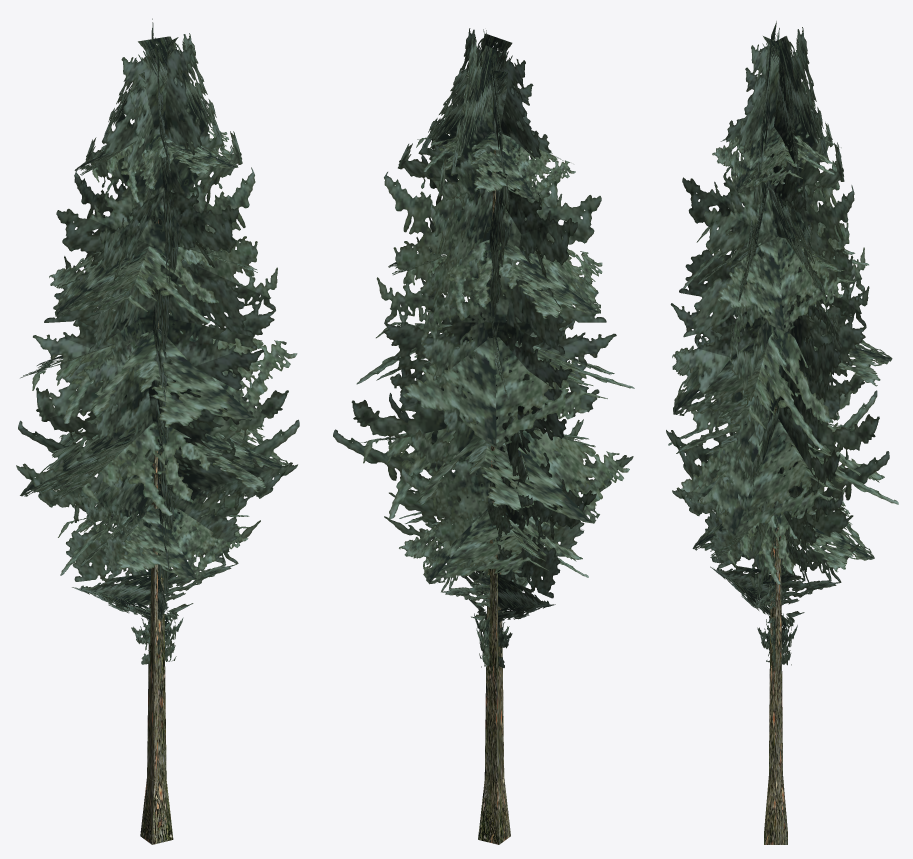
The model's file is pinetree01.obj.
3 renders of one model, left to right at view 1: azimuth 30°, elevation 25°; view 2: azimuth 150°, elevation 25°; view 3: azimuth 270°, elevation 25°, orthographic.
Visible parts, largest first — view 1: pinetree01; view 2: pinetree01; view 3: pinetree01.
Boxes of the visible parts, bbox=[...] form: pinetree01: bbox=[16, 18, 299, 844]; pinetree01: bbox=[333, 28, 634, 844]; pinetree01: bbox=[666, 21, 898, 844].
Bounding box in the file's own units: 4.84 × 14.64 × 3.8.
